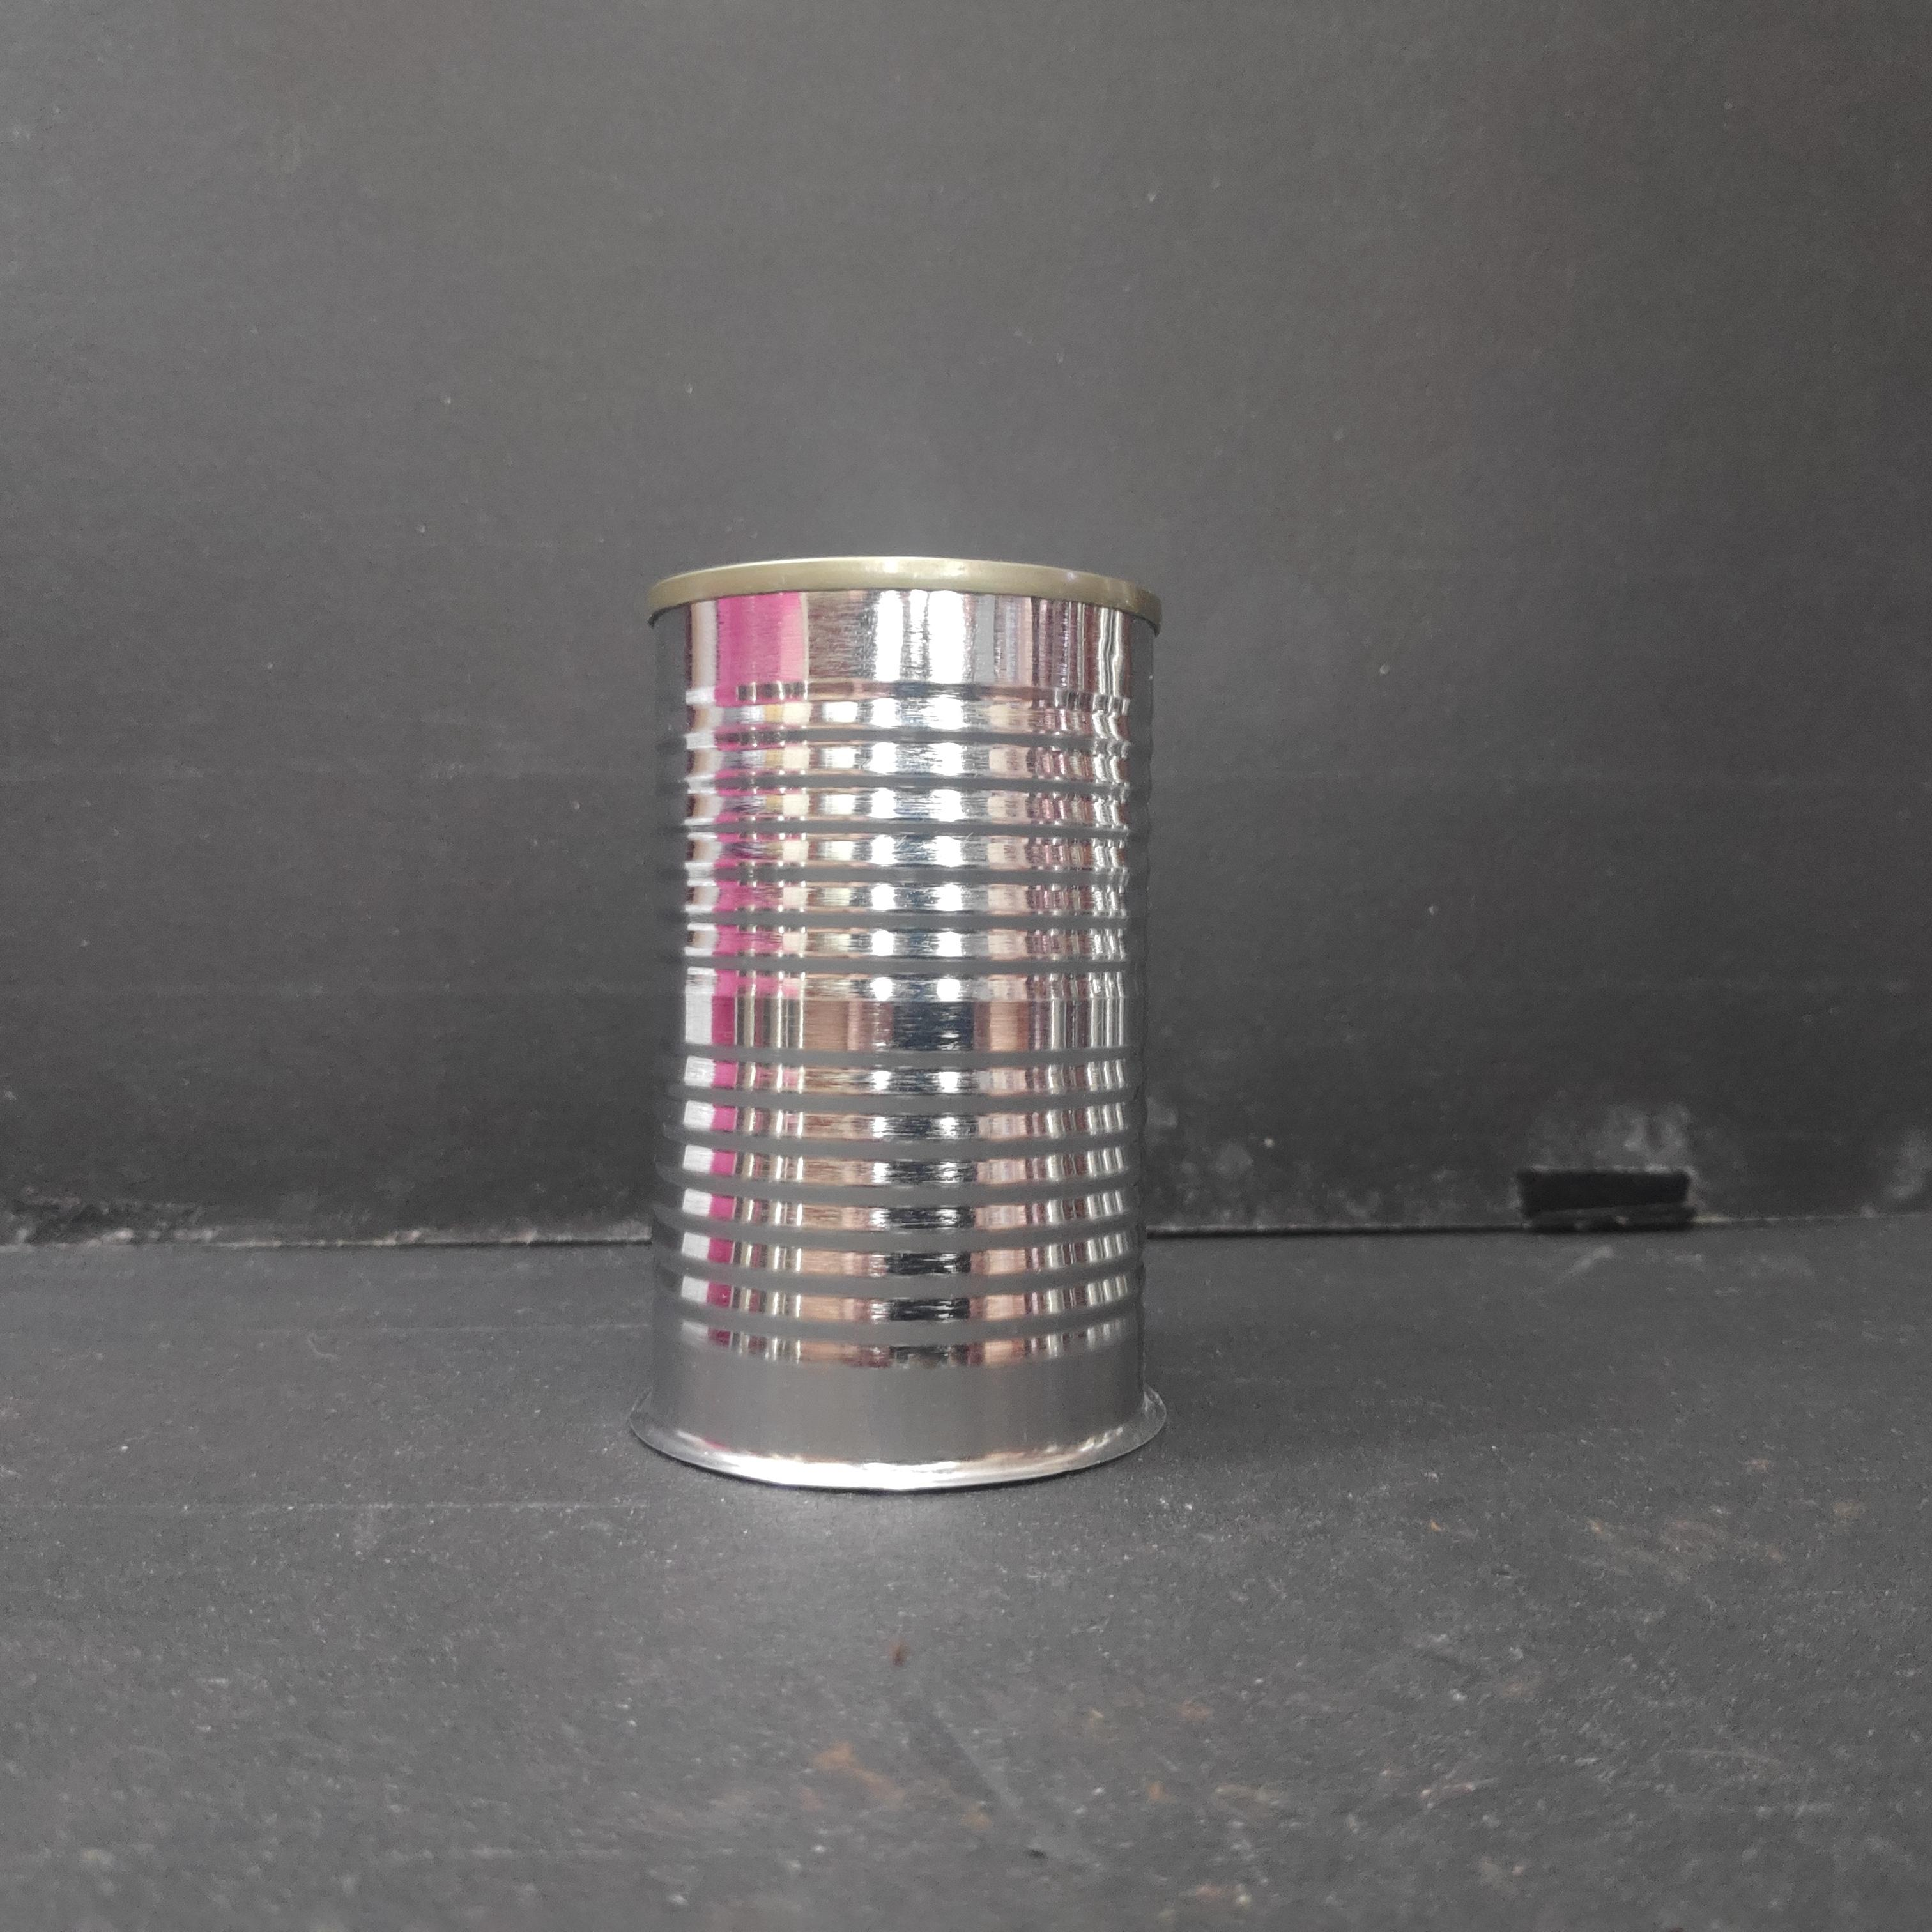No defect: (633, 538, 1177, 1504)
